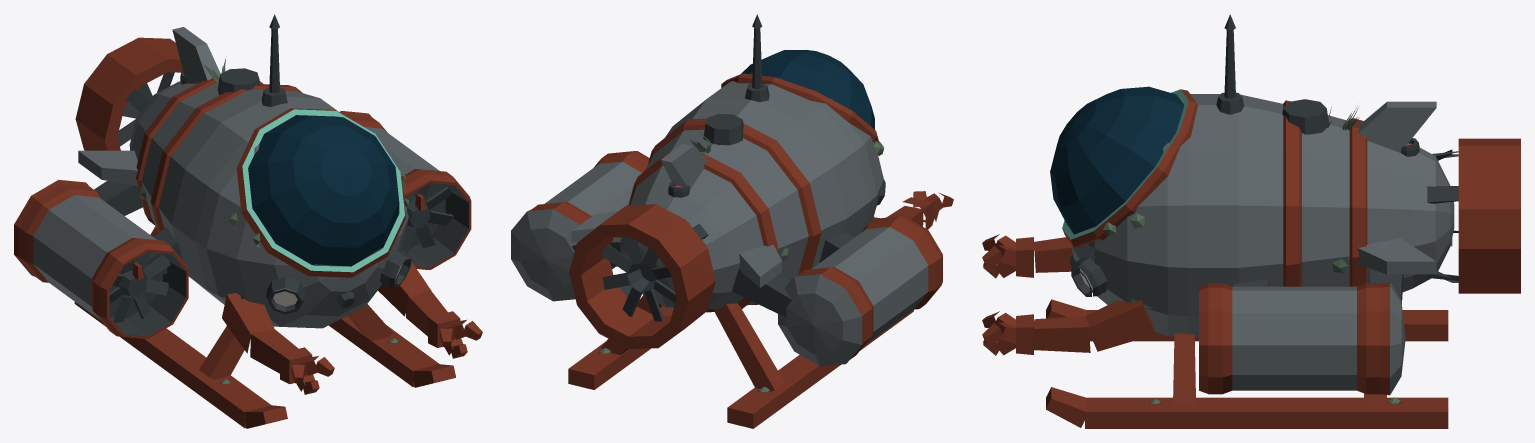
Rendered from one-person-submarine-0b9d14.glb.
3 views of the same model, side by side, from view 1: azimuth 30°, elevation 25°; view 2: azimuth 150°, elevation 25°; view 3: azimuth 270°, elevation 25° (orthographic). The views are drawn at different scales.
Parts seen in each view (by area): view 1: hull, thruster-r, thruster-l, arm-r, arm-l, rotor-r, rotor-l, stern-rotor; view 2: hull, thruster-r, thruster-l, stern-rotor, arm-r; view 3: hull, thruster-l, arm-l, arm-r.
Part boxes in pixels (x1,y1,x2,y2): hull: (74, 14, 455, 428); thruster-r: (14, 179, 188, 338); thruster-l: (339, 111, 471, 269); arm-r: (222, 293, 334, 394); arm-l: (378, 251, 482, 358); rotor-r: (109, 252, 170, 322); rotor-l: (401, 183, 453, 253); stern-rotor: (117, 72, 174, 146); hull: (568, 14, 913, 428); thruster-r: (778, 216, 942, 366); thruster-l: (511, 151, 649, 301); stern-rotor: (601, 237, 676, 321); arm-r: (872, 191, 953, 229); hull: (1046, 14, 1520, 428); thruster-l: (1199, 282, 1405, 395); arm-l: (982, 300, 1155, 355); arm-r: (982, 234, 1072, 278).
Bounding box in the file's own units: 2.21 × 1.93 × 2.6.
